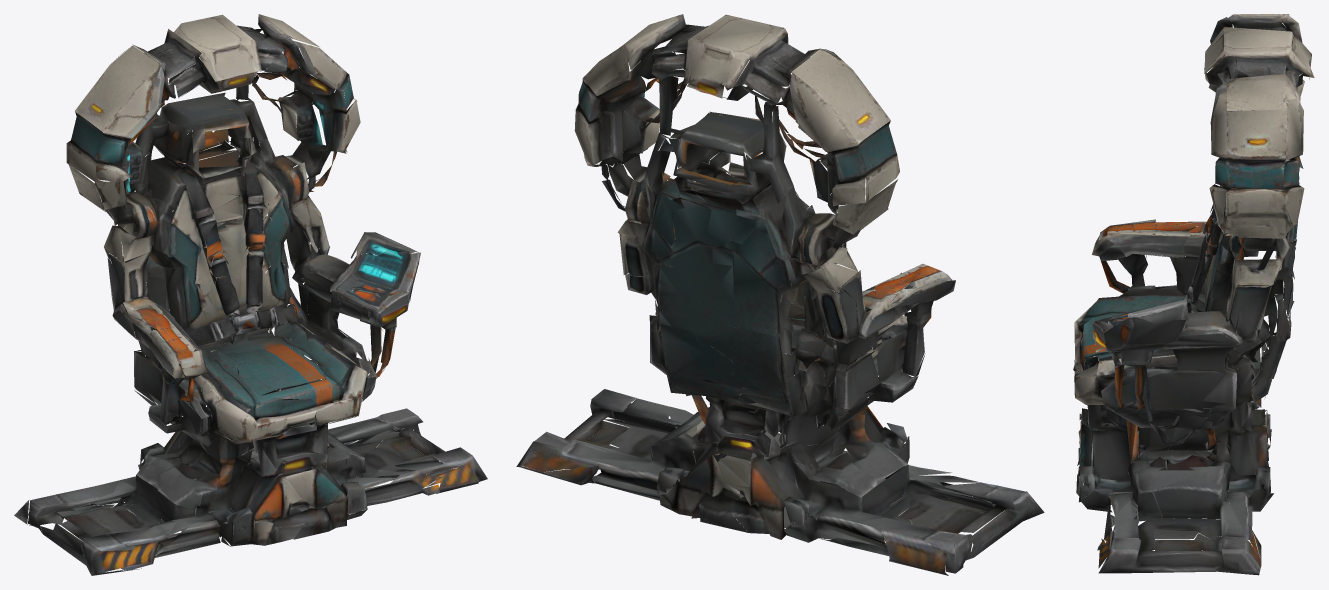
Rendered from ht_chair_throne.glb.
3 renders of one model, left to right at view 1: azimuth 30°, elevation 25°; view 2: azimuth 150°, elevation 25°; view 3: azimuth 270°, elevation 25°, orthographic. The views are drawn at different scales.
Parts seen in each view (by area): view 1: ht_chair_throne; view 2: ht_chair_throne; view 3: ht_chair_throne.
Boxes of the visible parts, left/top/right/bottom form: ht_chair_throne: left=14, top=14, right=487, bottom=575; ht_chair_throne: left=516, top=14, right=1044, bottom=575; ht_chair_throne: left=1073, top=14, right=1314, bottom=575.
Size of the model in its own units: 1.63 by 1.75 by 0.8608.
Materials: 1 (1 with a texture image).
